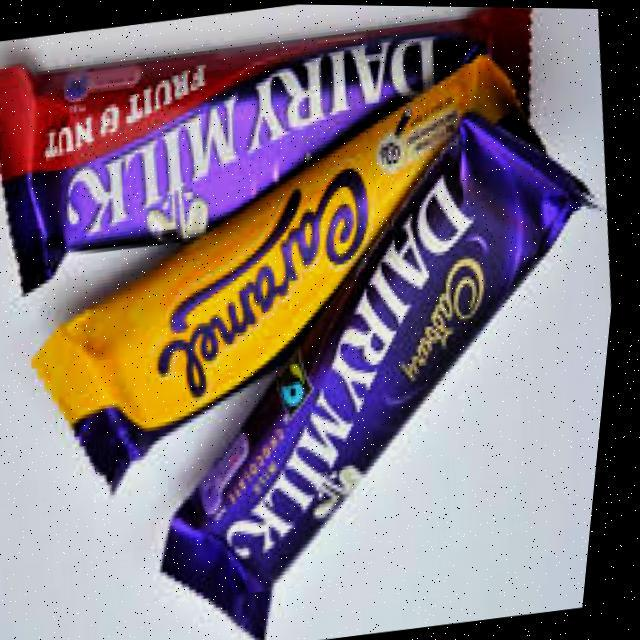cadbury_chocolate: (165, 137, 598, 622), (13, 10, 532, 295)
